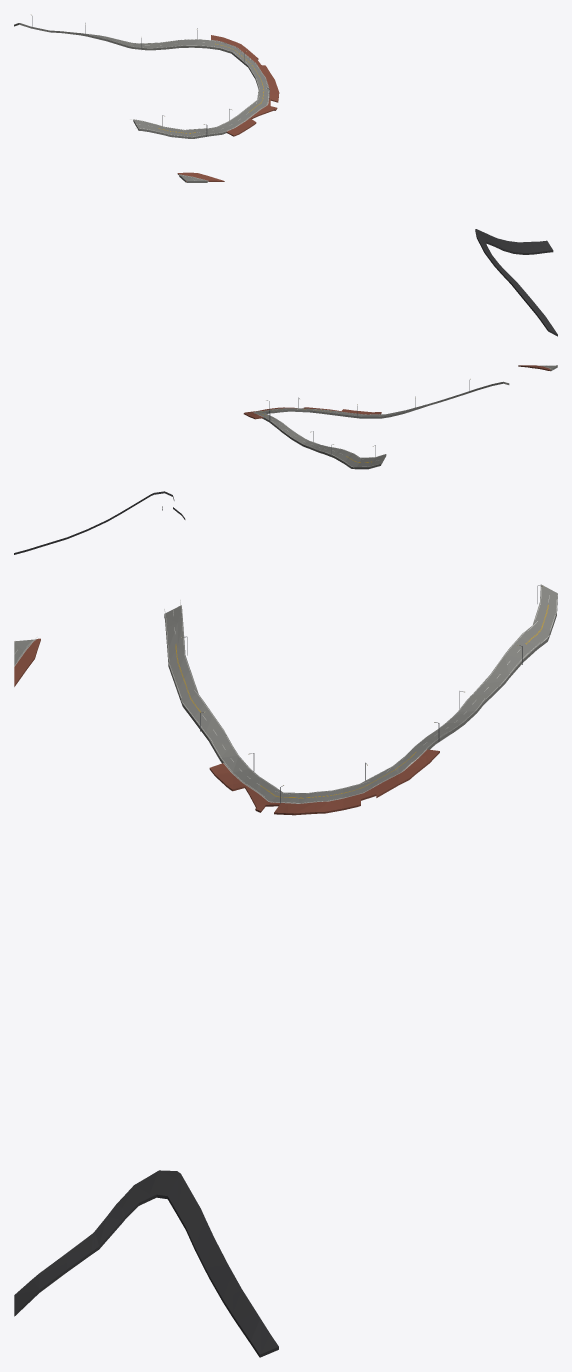
3 renders of one model, top to bottom at view 1: azimuth 30°, elevation 25°; view 2: azimuth 150°, elevation 25°; view 3: azimuth 270°, elevation 25°, orthographic. The views are drawn at different scales.
Bounding box in the file's own units: 296 × 181 × 197.
